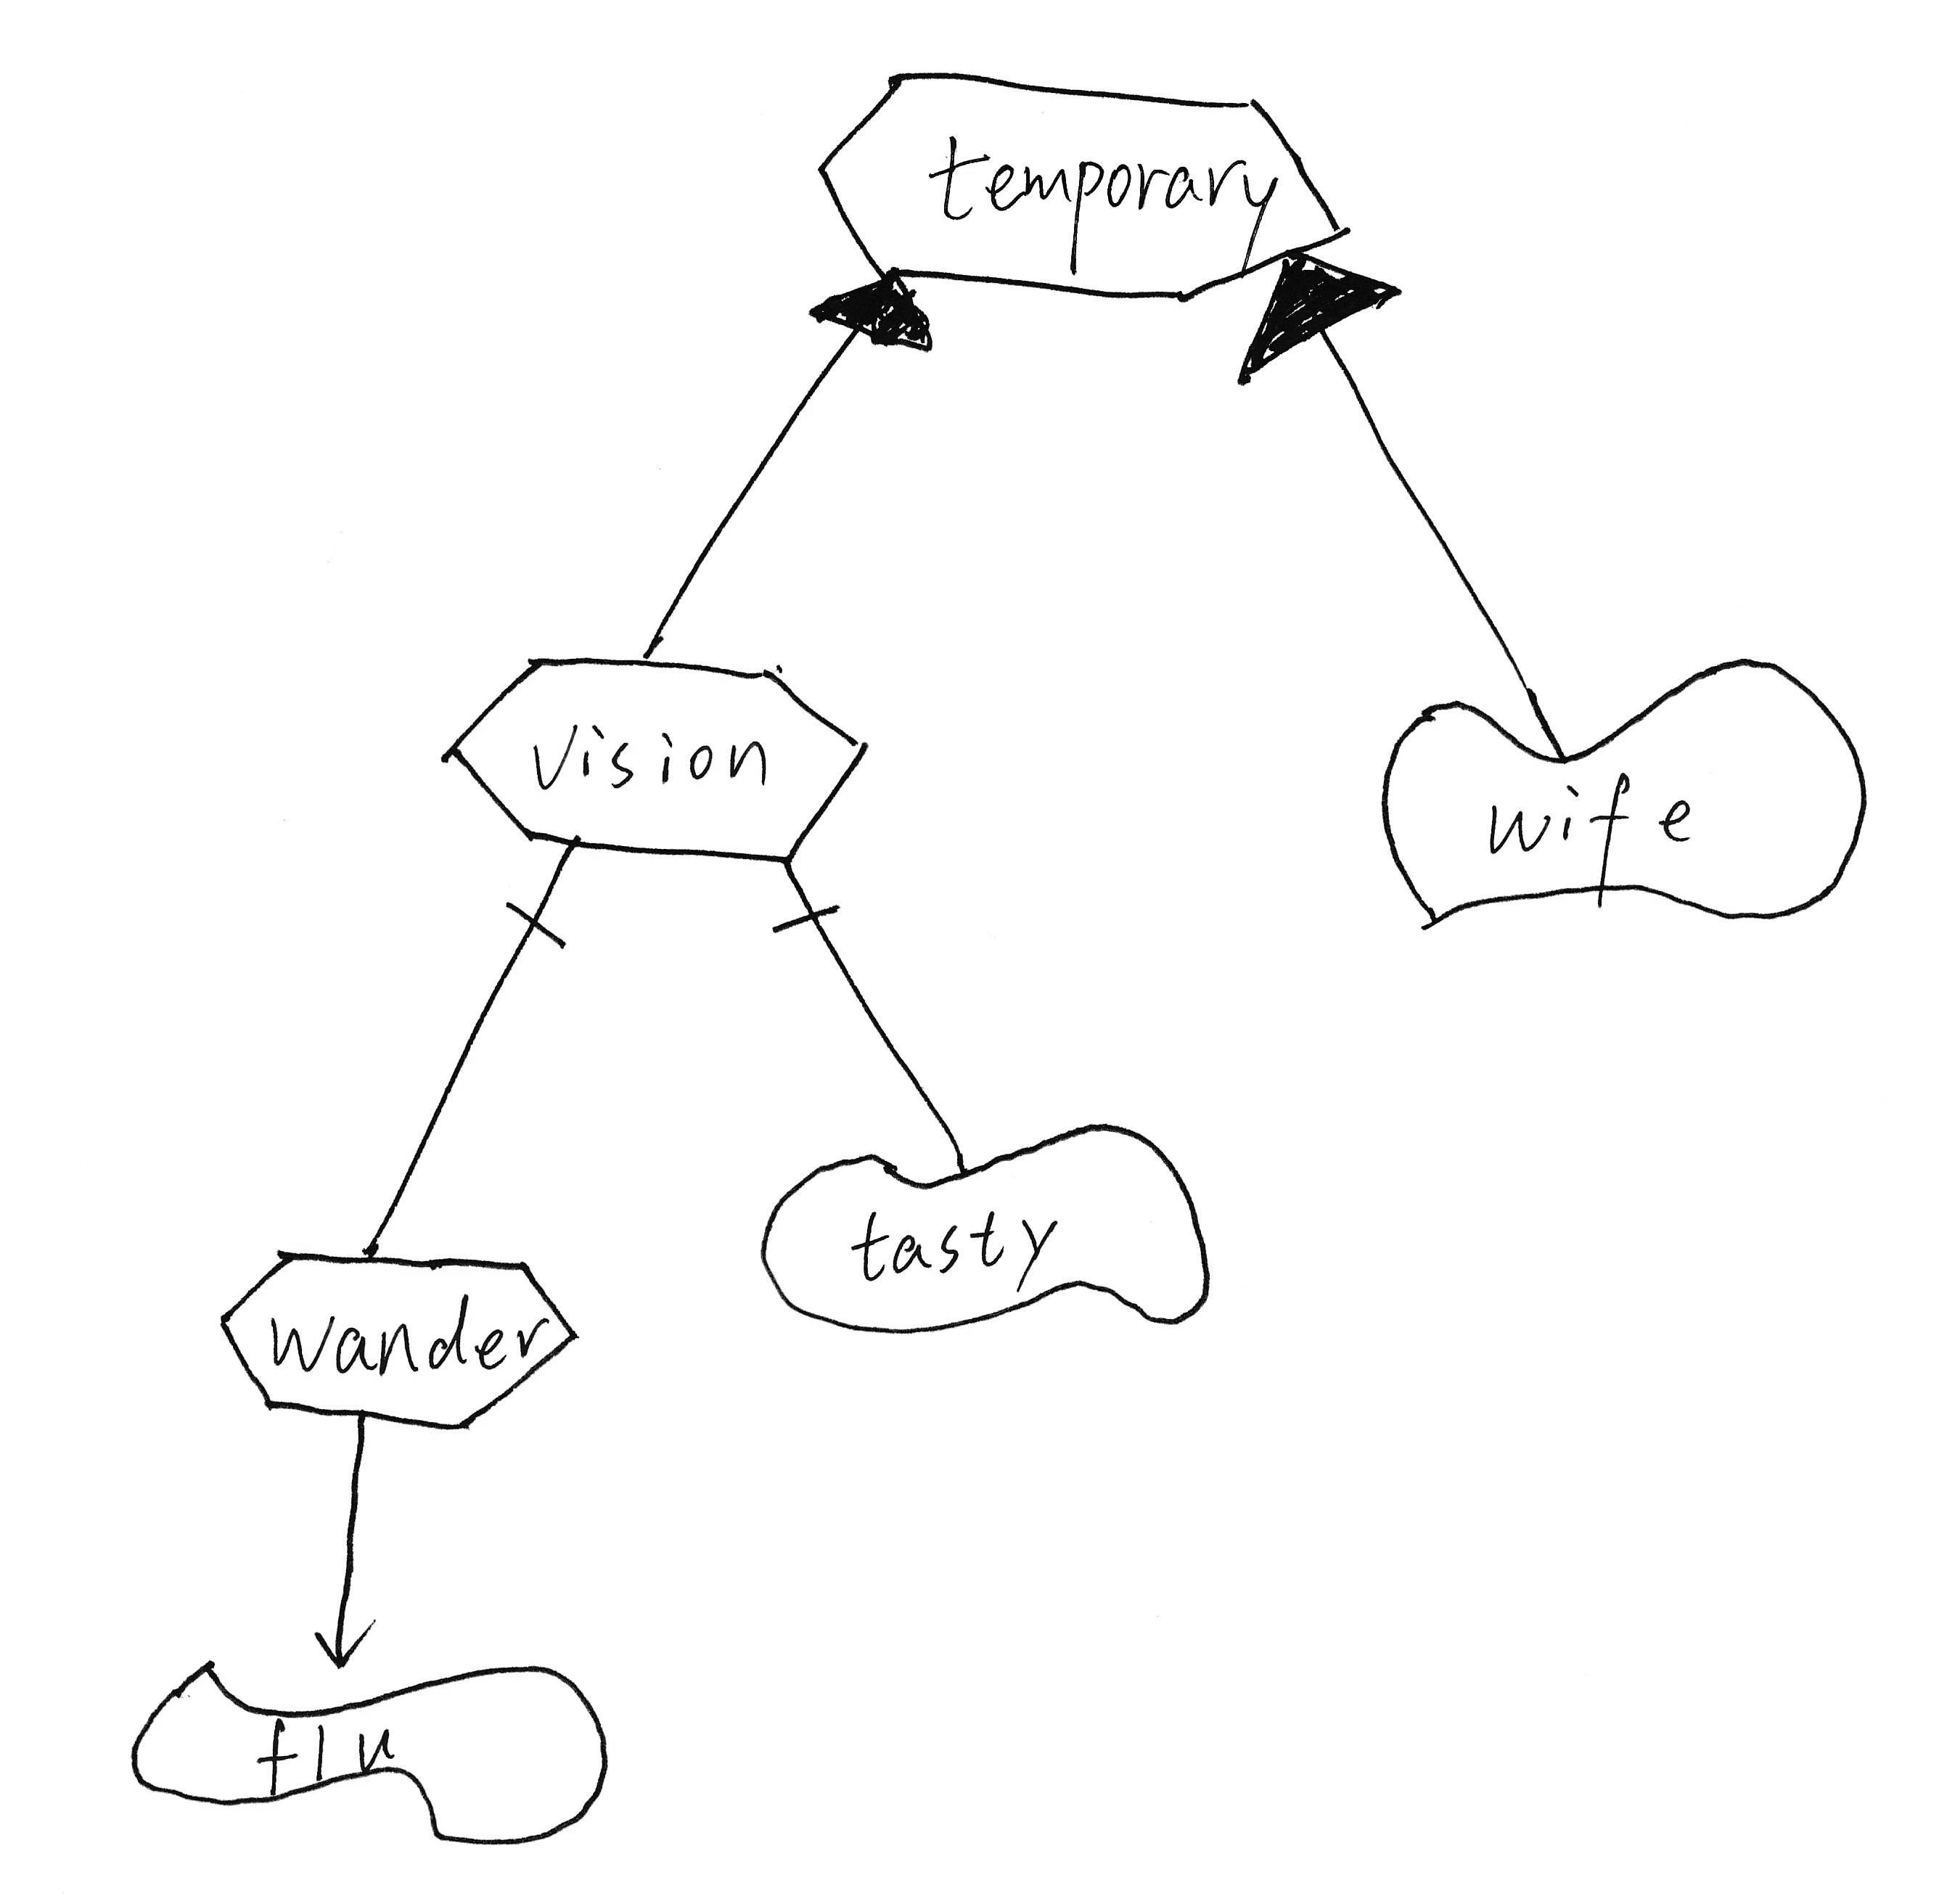and: (490, 856, 580, 989), (758, 875, 858, 969)
arrow: (303, 1599, 394, 1690)
or: (1215, 237, 1419, 406), (790, 251, 945, 368)
quality: (1354, 635, 1888, 961), (739, 1104, 1231, 1355), (108, 1644, 631, 1860)
task: (798, 47, 1365, 316), (415, 631, 889, 886), (187, 1229, 601, 1447)
